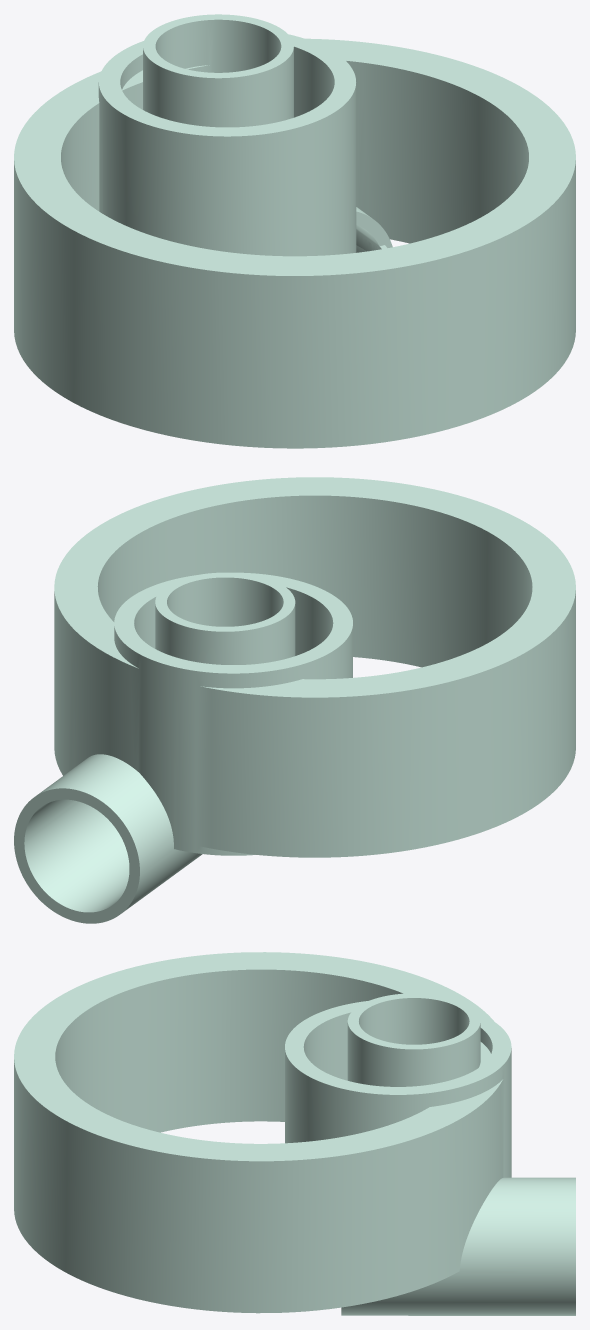
The picture shows the model from 3 angles, top to bottom: view 1: azimuth 30°, elevation 25°; view 2: azimuth 150°, elevation 25°; view 3: azimuth 270°, elevation 25°; orthographic projection. The views are drawn at different scales.
Parts seen in each view (by area): view 1: Renderer Node; view 2: Renderer Node; view 3: Renderer Node.
Boxes of the visible parts, x1,y1,x2,y2 form: Renderer Node: [14, 14, 575, 448]; Renderer Node: [14, 477, 575, 923]; Renderer Node: [14, 952, 575, 1315].
Bounding box in the file's own units: 1.5 × 0.8655 × 1.7.
